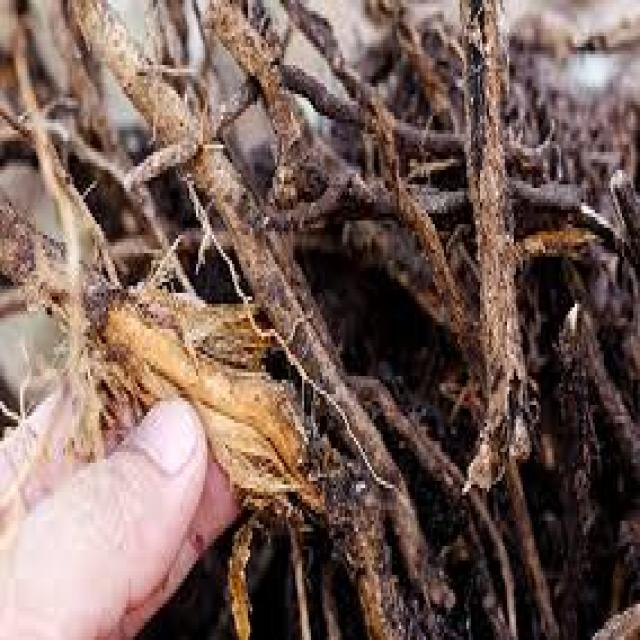root_rot: (43, 39, 602, 586)
